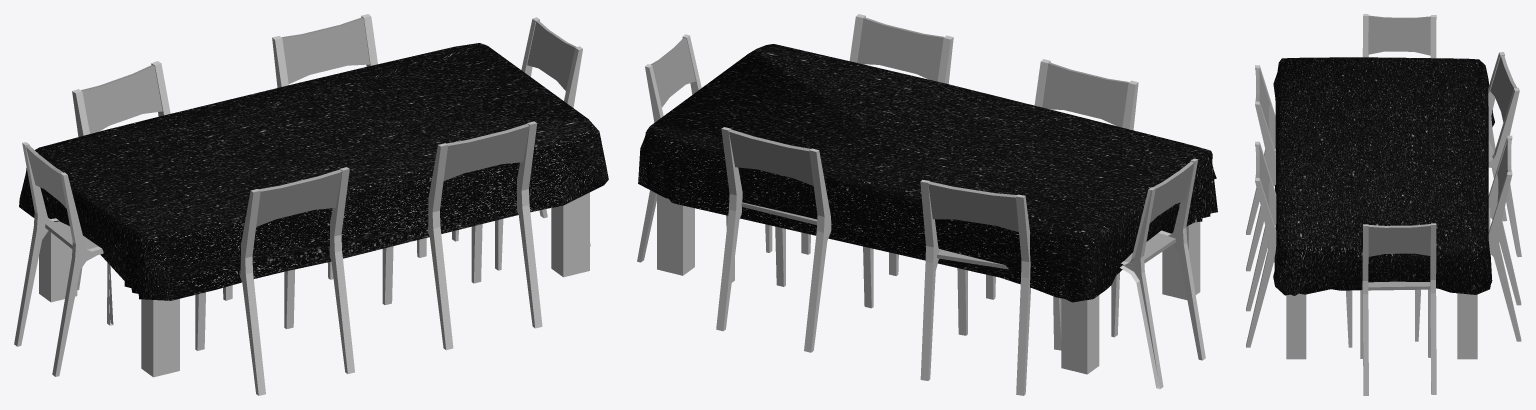
Rendered from dining_table.glb.
3 renders of one model, left to right at view 1: azimuth 30°, elevation 25°; view 2: azimuth 150°, elevation 25°; view 3: azimuth 270°, elevation 25°, orthographic. The views are drawn at different scales.
Visible parts, largest first — view 1: table_cloth, chair_1.001, chair_1.002, furniture_dining_table, chair_2.001, chair_4.001, chair_3.001, chair_2.002; view 2: table_cloth, chair_4.001, chair_3.001, furniture_dining_table, chair_2.001, chair_1.001, chair_1.002, chair_2.002; view 3: table_cloth, chair_2.002, chair_4.001, chair_1.001, chair_2.001, furniture_dining_table, chair_3.001, chair_1.002.
Part boxes in pixels (box(x1,y1,x2,y2)): table_cloth: box(19, 43, 608, 300); chair_1.001: box(382, 121, 542, 350); chair_1.002: box(195, 167, 354, 395); furniture_dining_table: box(39, 192, 589, 377); chair_2.001: box(14, 142, 113, 376); chair_4.001: box(272, 14, 426, 279); chair_3.001: box(72, 61, 232, 300); chair_2.002: box(452, 17, 590, 270); table_cloth: box(638, 44, 1217, 302); chair_4.001: box(716, 127, 873, 352); chair_3.001: box(920, 179, 1061, 395); furniture_dining_table: box(657, 194, 1200, 374); chair_2.001: box(1111, 158, 1205, 389); chair_1.001: box(801, 14, 953, 275); chair_1.002: box(986, 59, 1138, 299); chair_2.002: box(637, 34, 772, 282); table_cloth: box(1273, 57, 1494, 295); chair_2.002: box(1360, 223, 1436, 395); chair_4.001: box(1415, 135, 1521, 341); chair_1.001: box(1246, 141, 1352, 347); chair_2.001: box(1362, 14, 1436, 58); furniture_dining_table: box(1286, 293, 1477, 359); chair_3.001: box(1488, 52, 1521, 257); chair_1.002: box(1246, 65, 1275, 271).
Bounding box in the file's own units: 3.62 × 1.29 × 1.93.
Materials: 8 (1 with a texture image).
